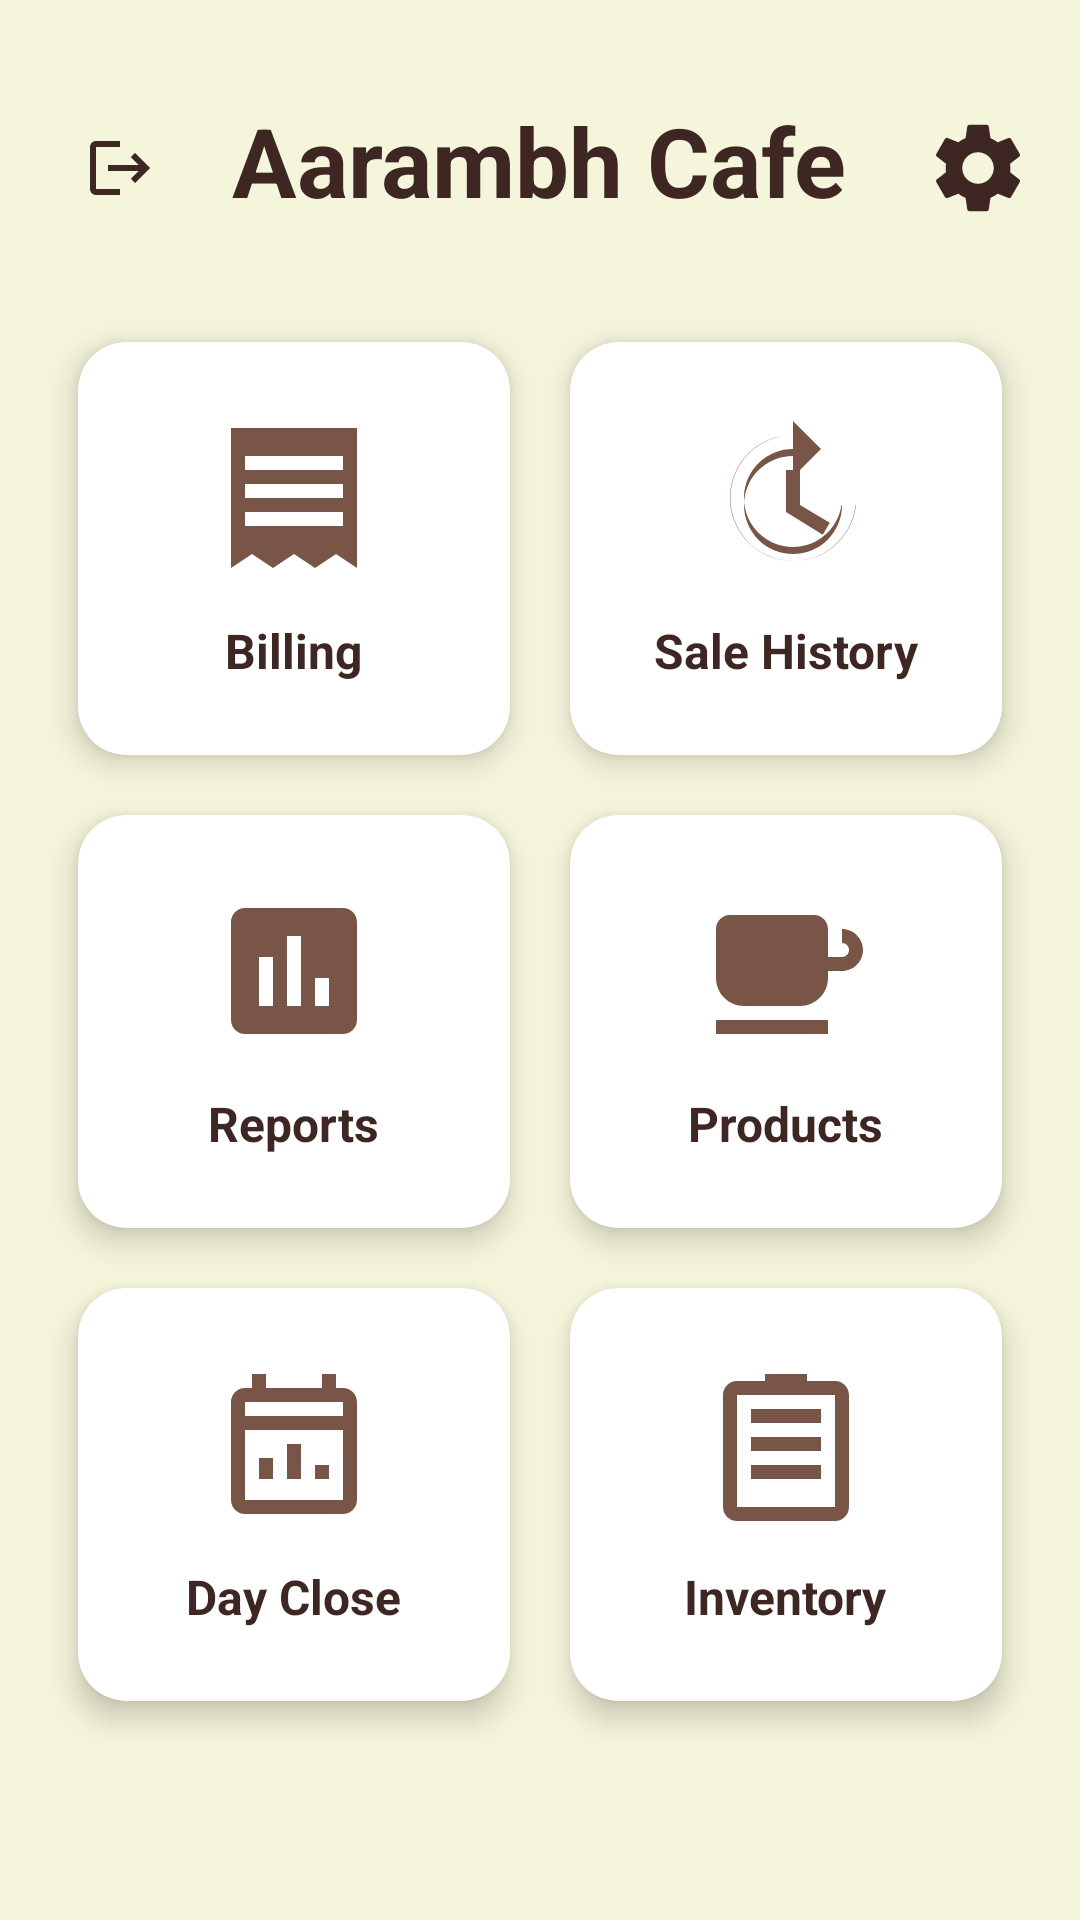

Icons on this 1080 x 1920 Android screen, each with the point to tap as (x=x, y=y):
sales history: (x=793, y=490)
settings: (x=978, y=168)
